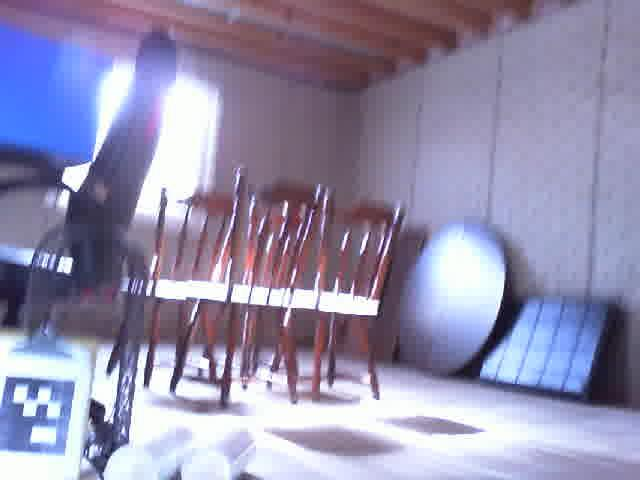coral: (100, 423, 200, 480), (180, 426, 256, 480)
